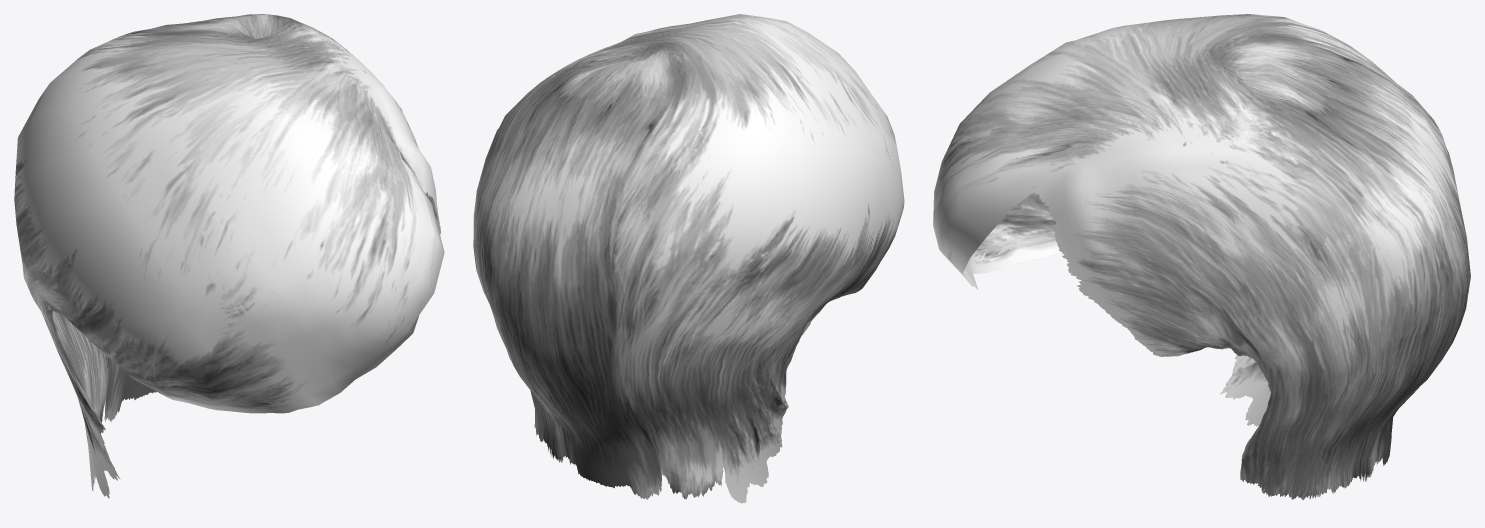
The model's file is medium.glb.
The picture shows the model from 3 angles, left to right: view 1: azimuth 30°, elevation 25°; view 2: azimuth 150°, elevation 25°; view 3: azimuth 270°, elevation 25°; orthographic projection. The views are drawn at different scales.
Visible parts, largest first — view 1: medium; view 2: medium; view 3: medium.
Boxes of the visible parts, <box> form: medium: <box>14,14,444,498</box>; medium: <box>473,14,904,503</box>; medium: <box>933,14,1470,499</box>.
Bounding box in the file's own units: 0.1744 × 0.2139 × 0.2302.
1 material, 1 textured.
